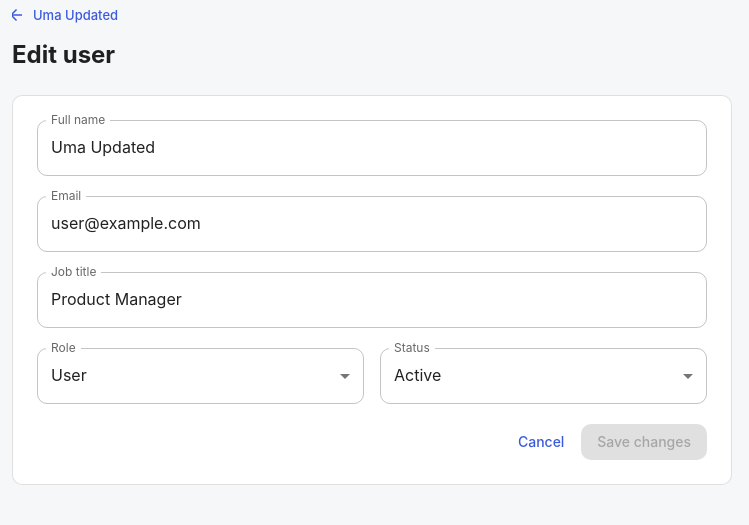
Scenario: users feature › shows the API conflict error next to the email field
This screenshot has width=749, height=525.
Replace the text in the field labelled "Email" with "admin@example.com". click: point(372, 224)
box: [37, 196, 707, 252]
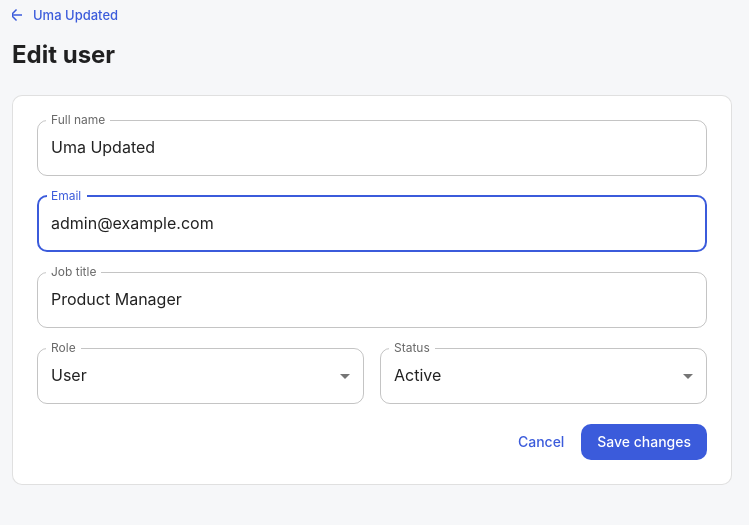
Click the button "Save changes". click: point(644, 442)
box: [581, 424, 707, 460]
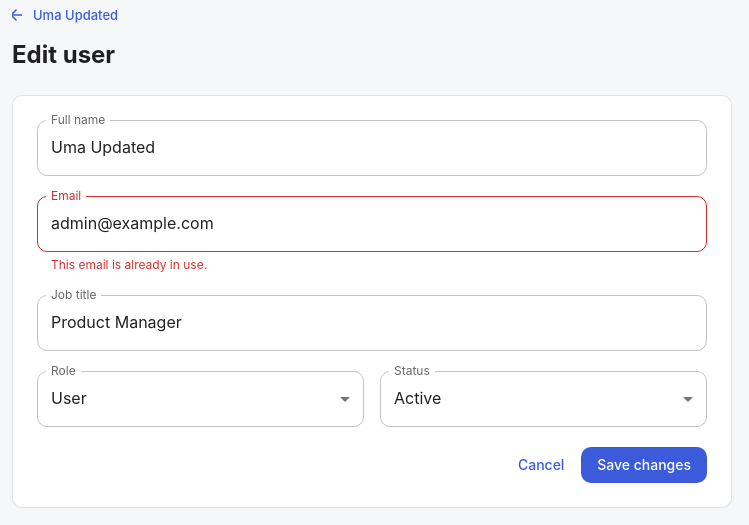
expect the text "This email is already in use." is shown: met, box [51, 257, 207, 272]
